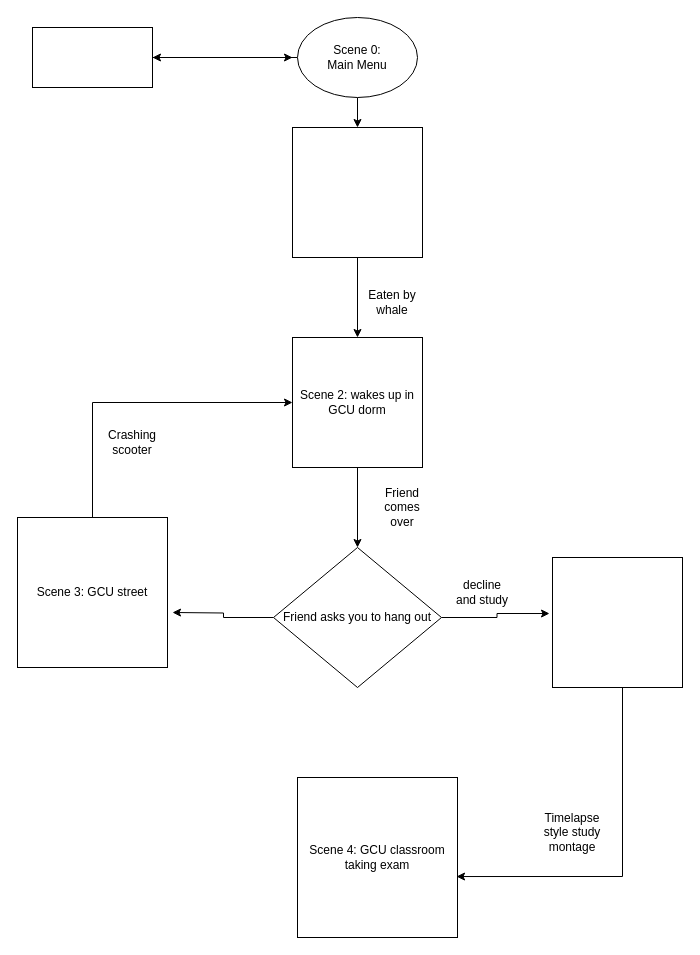
This 700x955 diagram has some shape labels left out. Each missing label, with the box of its shape:
prologue:: (32, 26, 152, 88)
Scene 1: on the boat: (292, 126, 422, 258)
Scene 2b: stays in dorm: (552, 556, 682, 688)
